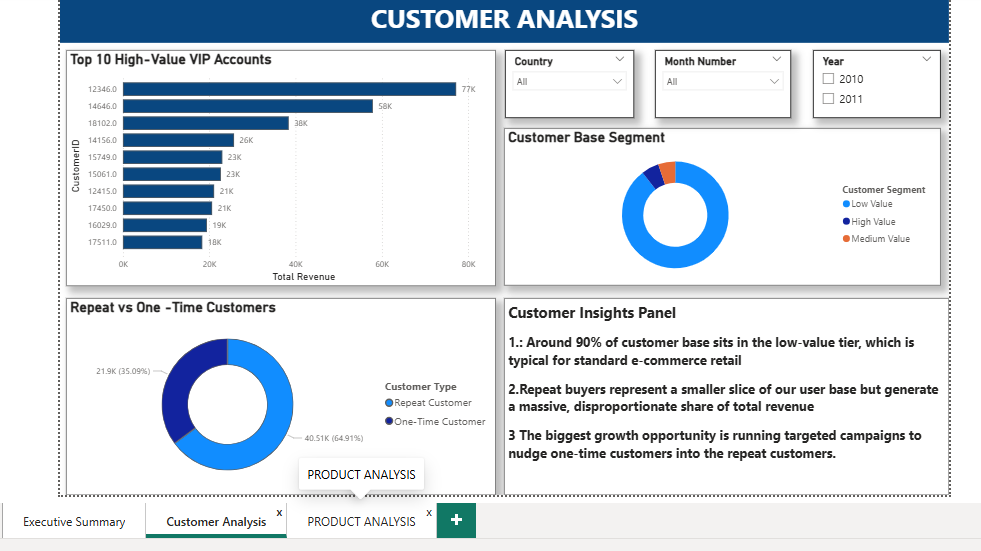

This screenshot's page, from the dashboard's own definition file:
{"tool":"powerbi","page":{"name":"Customer Analysis","canvas":[1280,720],"ordinal":1},"visuals":[{"type":"textbox","box":[0,2.9,1280.2,66.2],"z":0},{"type":"clusteredBarChart","title":"Top 10 High-Value VIP Accounts","fields":{"Category":["cleaned_online_retail.CustomerID"],"Y":["cleaned_online_retail.Total Revenue"]},"box":[8.6,79.2,619.2,339.8],"z":1000},{"type":"donutChart","title":" Customer Base Segment","fields":{"Category":["cleaned_online_retail.Customer Segment"],"Y":["CountNonNull(cleaned_online_retail.CustomerID)"]},"box":[640,191.3,629.3,227],"z":2000},{"type":"donutChart","title":"Repeat vs One -Time Customers","fields":{"Category":["cleaned_online_retail.Customer Type"],"Y":["CountNonNull(cleaned_online_retail.CustomerID)"]},"box":[8.6,436.3,619.2,283.7],"z":3000},{"type":"slicer","fields":{"Values":["cleaned_online_retail.Country"]},"box":[640.8,79.2,185.8,97.9],"z":4000},{"type":"slicer","fields":{"Values":["cleaned_online_retail.Month Number"]},"box":[856.8,79.2,195.8,97.9],"z":5000},{"type":"slicer","fields":{"Values":["cleaned_online_retail.Year"]},"box":[1084.3,79.2,184.3,97.9],"z":6000},{"type":"textbox","box":[639.4,436.3,640.8,283.7],"z":7000}]}

Visuals, with their boxes on the page's 1280x720 design canvas (x1, y1, x2, y2). These are canvas units, not pixel positions in the 981x551 screenshot, which may show the page scaled, cropped or inside an application window:
textbox: left=0, top=3, right=1280, bottom=69
"Top 10 High-Value VIP Accounts" clusteredBarChart: left=9, top=79, right=628, bottom=419
" Customer Base Segment" donutChart: left=640, top=191, right=1269, bottom=418
"Repeat vs One -Time Customers" donutChart: left=9, top=436, right=628, bottom=720
slicer - cleaned_online_retail.Country: left=641, top=79, right=827, bottom=177
slicer - cleaned_online_retail.Month Number: left=857, top=79, right=1053, bottom=177
slicer - cleaned_online_retail.Year: left=1084, top=79, right=1269, bottom=177
textbox: left=639, top=436, right=1280, bottom=720
